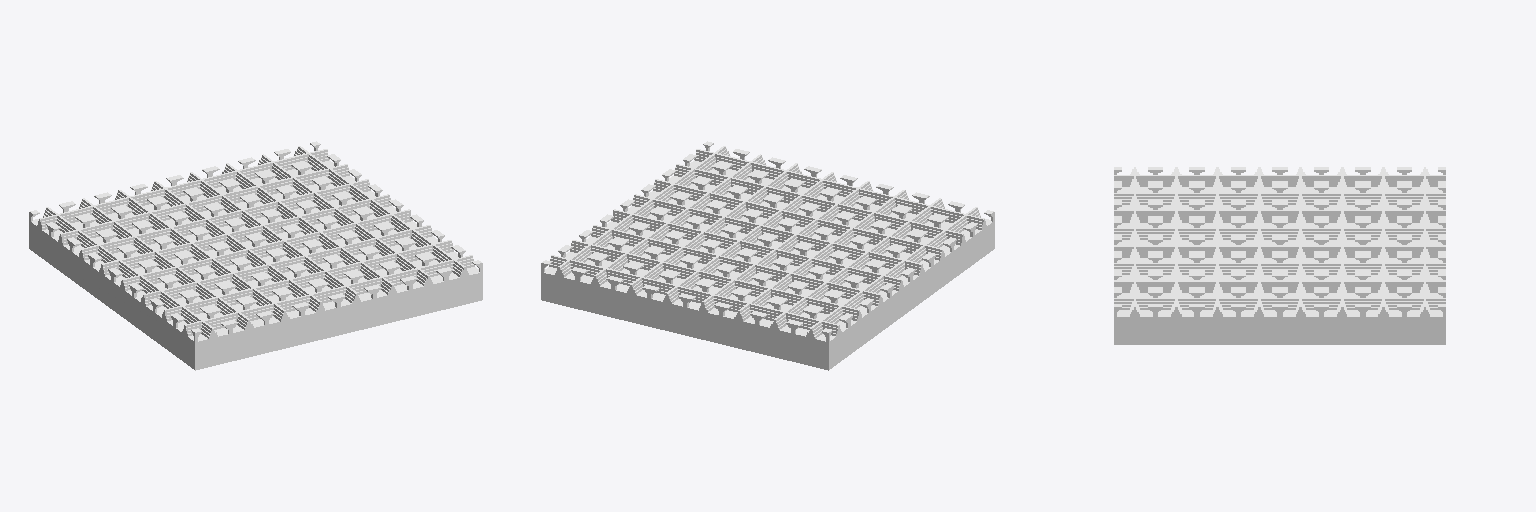
File: blue2.obj
The picture shows the model from 3 angles: view 1: azimuth 30°, elevation 25°; view 2: azimuth 150°, elevation 25°; view 3: azimuth 270°, elevation 25°; orthographic projection.
Parts seen in each view (by area): view 1: object 1; view 2: object 1; view 3: object 1.
Boxes of the visible parts, box(x1,y1,x2,y2) form: object 1: box(29, 141, 482, 370); object 1: box(541, 141, 994, 370); object 1: box(1114, 167, 1445, 344).
Size of the model in its own units: 25.6 by 3.2 by 25.6.